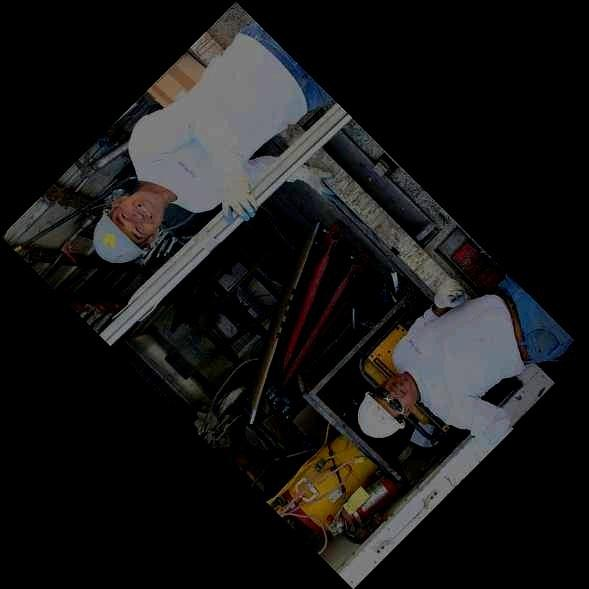helmet: (93, 190, 165, 264), (357, 372, 414, 448)
